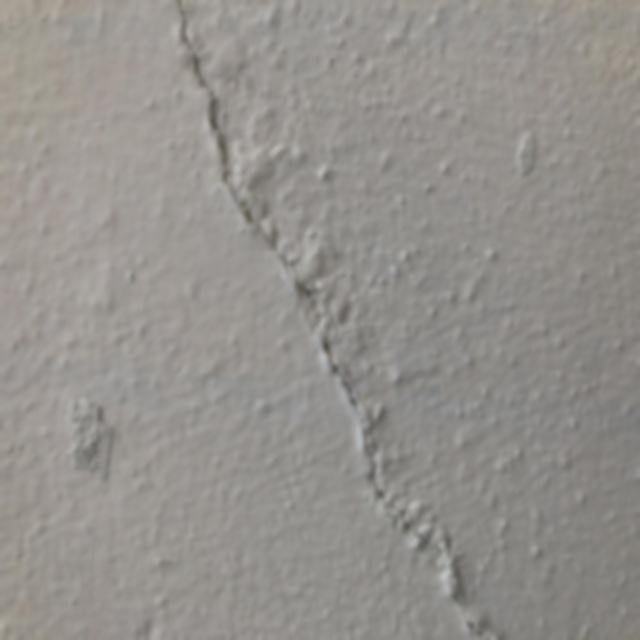SurfaceCrack: (139, 1, 546, 640)
